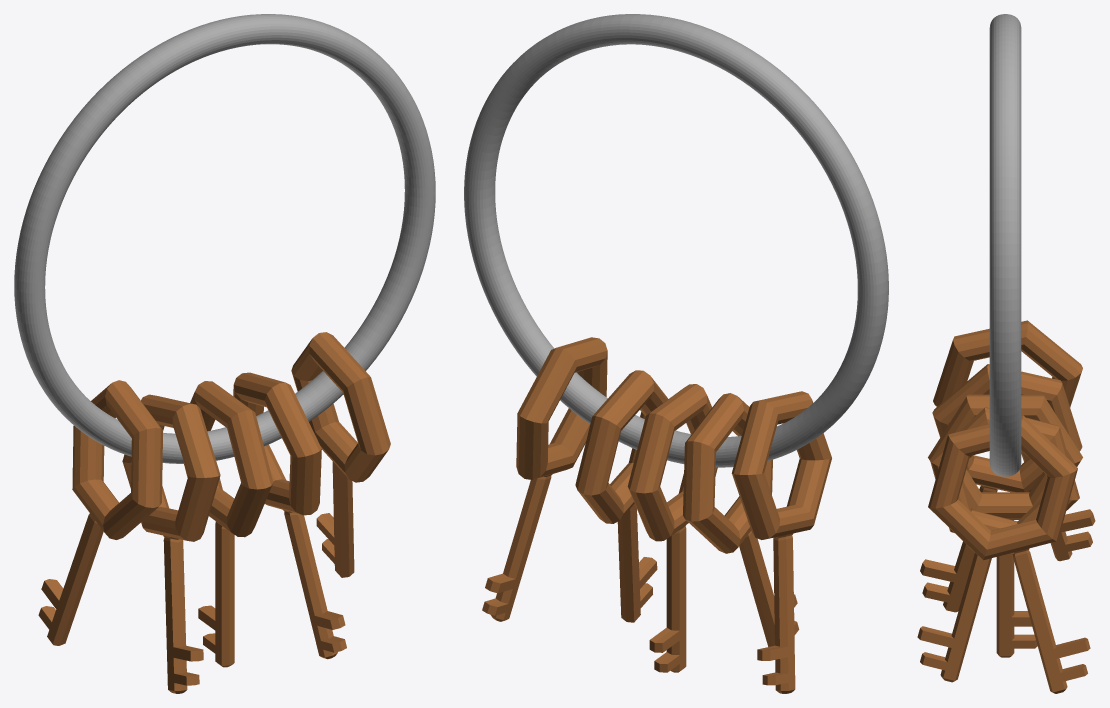
The model's file is Keys.fbx.
3 views of the same model, side by side, from view 1: azimuth 30°, elevation 25°; view 2: azimuth 150°, elevation 25°; view 3: azimuth 270°, elevation 25° (orthographic). The views are drawn at different scales.
Parts seen in each view (by area): view 1: Circle, Torus.002, Torus.003, Torus.004, Torus.001, Torus; view 2: Circle, Torus.002, Torus.003, Torus, Torus.001, Torus.004; view 3: Circle, Torus.003, Torus, Torus.004, Torus.002, Torus.001.
Part boxes in pixels (x1,y1,x2,y2): Circle: (14,14,435,463); Torus.002: (38,380,162,645); Torus.003: (291,332,390,577); Torus.004: (122,394,220,693); Torus.001: (233,372,346,659); Torus: (184,381,273,667); Circle: (464,14,888,467); Torus.002: (731,391,831,693); Torus.003: (482,337,607,621); Torus: (627,384,717,672); Torus.001: (575,370,668,622); Torus.004: (683,393,799,646); Circle: (989,14,1021,476); Torus.003: (928,415,1090,693); Torus: (928,394,1082,657); Torus.004: (920,364,1082,612); Torus.002: (933,320,1095,561); Torus.001: (917,407,1079,682).
Bounding box in the file's own units: 22.39 × 33.12 × 8.61.
